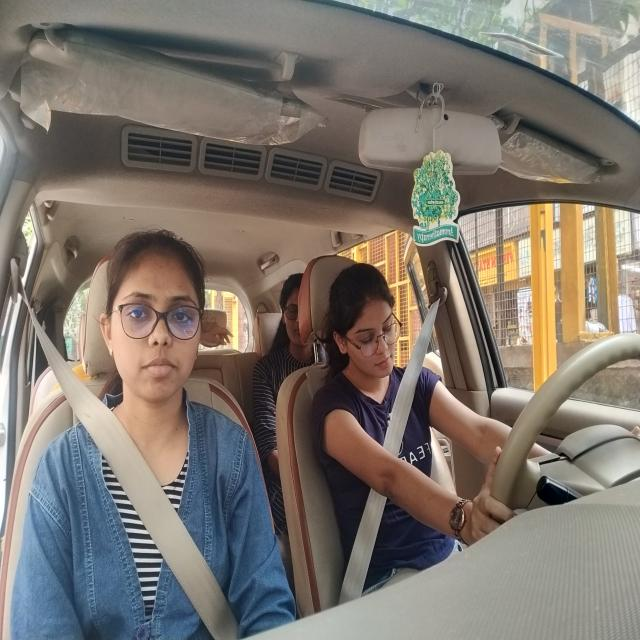drowsy: (327, 256, 407, 388)
person: (101, 230, 203, 416), (279, 270, 309, 354)
